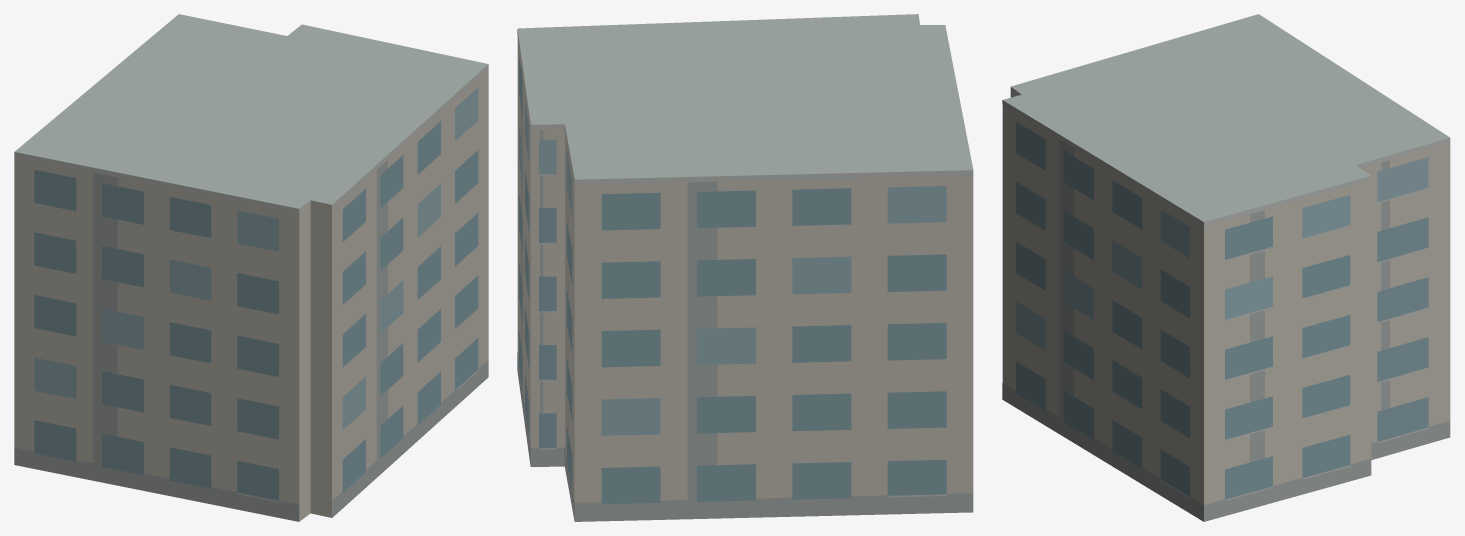
Rendered from survey-upis-32762359.glb.
3 renders of one model, left to right at view 1: azimuth 30°, elevation 25°; view 2: azimuth 150°, elevation 25°; view 3: azimuth 270°, elevation 25°, orthographic. The views are drawn at different scales.
Parts seen in each view (by area): view 1: survey-upis-32762359.tmp; view 2: survey-upis-32762359.tmp; view 3: survey-upis-32762359.tmp.
Boxes of the visible parts, left/top/right/bottom form: survey-upis-32762359.tmp: left=14, top=14, right=488, bottom=521; survey-upis-32762359.tmp: left=517, top=14, right=973, bottom=521; survey-upis-32762359.tmp: left=1002, top=14, right=1450, bottom=521.
Bounding box in the file's own units: 22.73 × 15.25 × 20.66.
